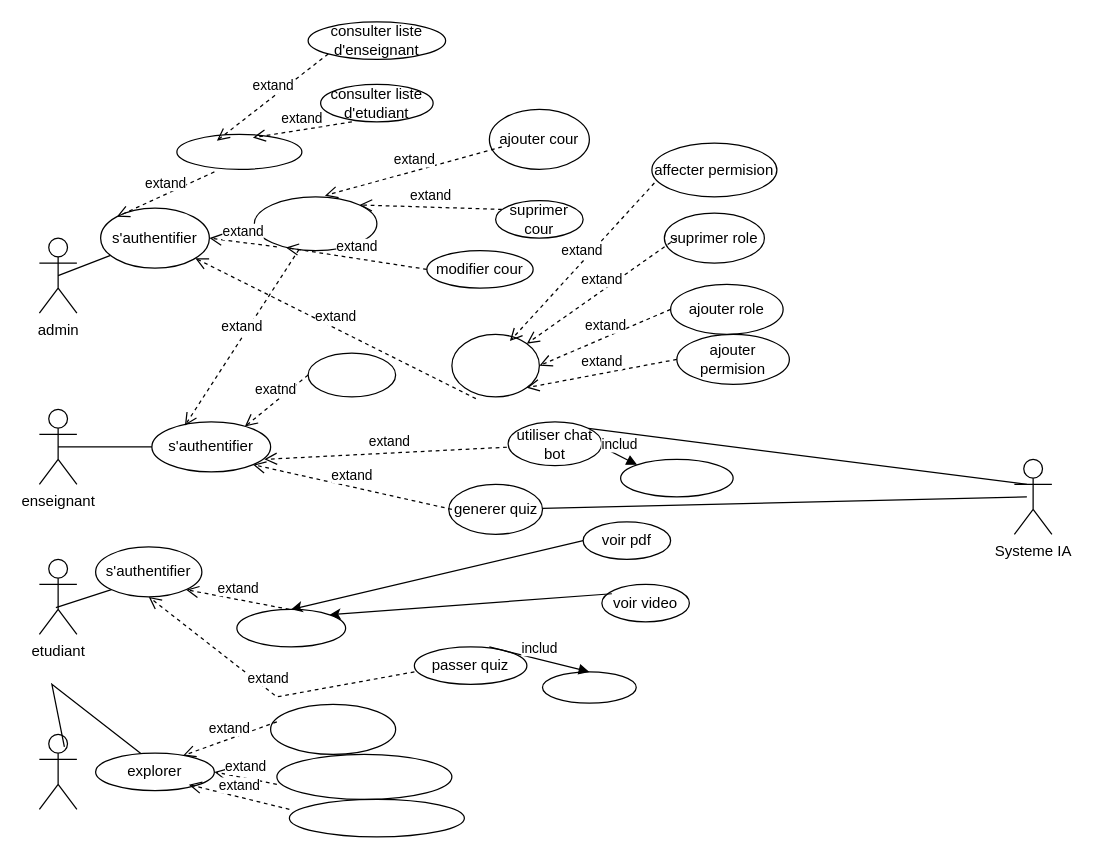
The diagram is 1093 pixels wide and 859 high, and some of its shapes have lost their labels. Each missing label, with the centre of its shape:
consulter cours: point (291, 627)
consulter liste: point (239, 151)
contacter assistance: point (364, 776)
evaluer quiz: point (588, 687)
gerer cours: point (315, 223)
gerer role et permisions: point (495, 365)
integrer video / pdf: point (351, 374)
s'inscrire: point (332, 728)
utiliser IA: point (676, 477)
visiteur: point (57, 771)
voir cours: point (376, 817)
